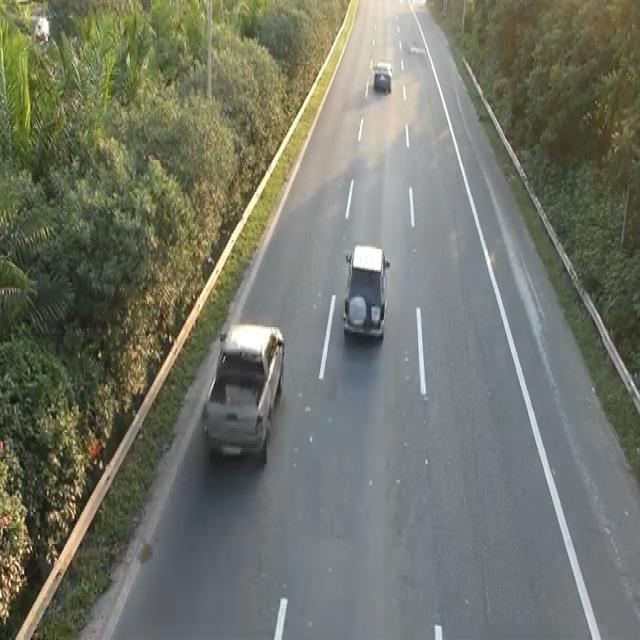car: (200, 318, 286, 466), (341, 240, 391, 341)
